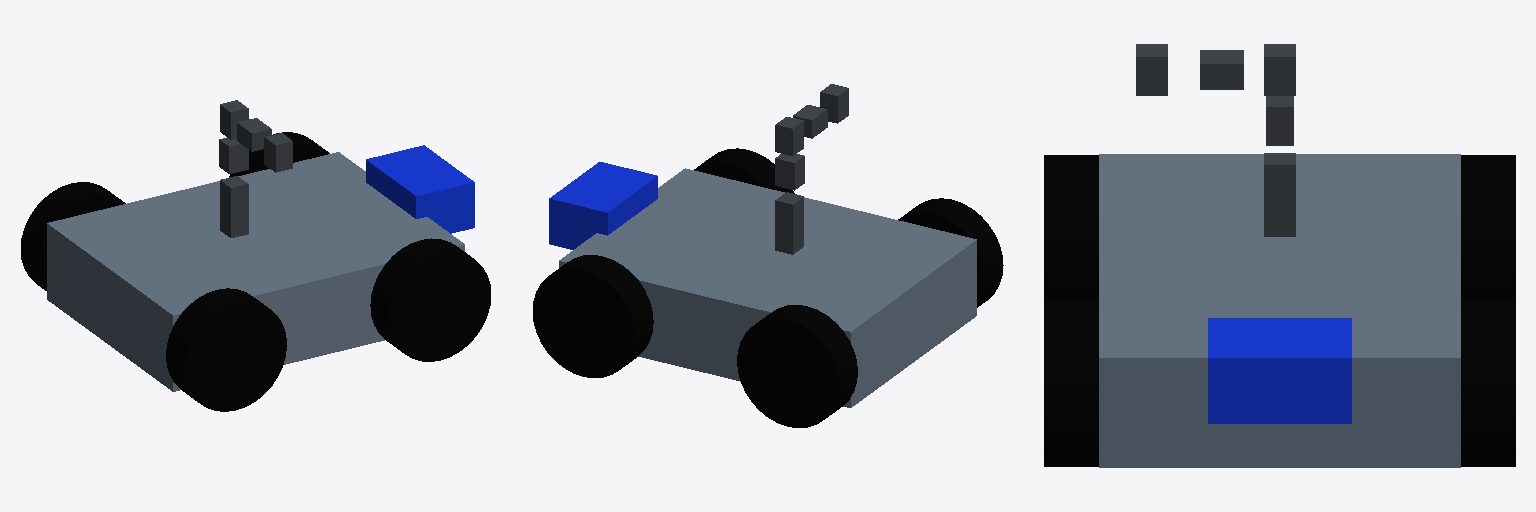
The robot description file, URDF, robot "mobile_manipulator":
<?xml version="1.0" ?>
<!-- =================================================================================== -->
<!-- |    This document was autogenerated by xacro from src/mobile_manipulator/urdf/mobile_manipulator.urdf.xacro | -->
<!-- |    EDITING THIS FILE BY HAND IS NOT RECOMMENDED                                 | -->
<!-- =================================================================================== -->
<robot name="mobile_manipulator">
  <material name="SlateGray">
    <color rgba="0.44 0.50 0.56 1"/>
  </material>
  <material name="Black">
    <color rgba="0.04 0.04 0.04 1"/>
  </material>
  <material name="PoppyOrange">
    <color rgba="1.0 0.32 0.05 1"/>
  </material>
  <material name="ServoGray">
    <color rgba="0.28 0.30 0.32 1"/>
  </material>
  <material name="Blue">
    <color rgba="0.1 0.25 0.9 1"/>
  </material>
  <link name="base_link">
    <inertial>
      <mass value="6.0"/>
      <inertia ixx="0.05" ixy="0" ixz="0" iyy="0.085" iyz="0" izz="0.125"/>
    </inertial>
    <visual>
      <origin xyz="0 0 0"/>
      <geometry>
        <box size="0.4 0.3 0.1"/>
      </geometry>
      <material name="SlateGray"/>
    </visual>
    <collision>
      <origin xyz="0 0 0"/>
      <geometry>
        <box size="0.4 0.3 0.1"/>
      </geometry>
    </collision>
  </link>
  <link name="base_footprint"/>
  <joint name="base_fixed" type="fixed">
    <parent link="base_footprint"/>
    <child link="base_link"/>
    <origin xyz="0 0 0.07"/>
  </joint>
  <link name="front_left_link">
    <inertial>
      <mass value="0.45"/>
      <inertia ixx="0.000627" ixy="0" ixz="0" iyy="0.001103" iyz="0" izz="0.000627"/>
    </inertial>
    <visual>
      <origin rpy="1.5707963267949 0 0"/>
      <geometry>
        <cylinder length="0.045" radius="0.07"/>
      </geometry>
      <material name="Black"/>
    </visual>
    <collision>
      <origin rpy="1.5707963267949 0 0"/>
      <geometry>
        <cylinder length="0.045" radius="0.07"/>
      </geometry>
    </collision>
  </link>
  <joint name="front_left_joint" type="continuous">
    <parent link="base_link"/>
    <child link="front_left_link"/>
    <origin xyz="0.14 0.1725 0"/>
    <axis xyz="0 1 0"/>
    <limit effort="20" velocity="12.0"/>
  </joint>
  <link name="rear_left_link">
    <inertial>
      <mass value="0.45"/>
      <inertia ixx="0.000627" ixy="0" ixz="0" iyy="0.001103" iyz="0" izz="0.000627"/>
    </inertial>
    <visual>
      <origin rpy="1.5707963267949 0 0"/>
      <geometry>
        <cylinder length="0.045" radius="0.07"/>
      </geometry>
      <material name="Black"/>
    </visual>
    <collision>
      <origin rpy="1.5707963267949 0 0"/>
      <geometry>
        <cylinder length="0.045" radius="0.07"/>
      </geometry>
    </collision>
  </link>
  <joint name="rear_left_joint" type="continuous">
    <parent link="base_link"/>
    <child link="rear_left_link"/>
    <origin xyz="-0.14 0.1725 0"/>
    <axis xyz="0 1 0"/>
    <limit effort="20" velocity="12.0"/>
  </joint>
  <link name="front_right_link">
    <inertial>
      <mass value="0.45"/>
      <inertia ixx="0.000627" ixy="0" ixz="0" iyy="0.001103" iyz="0" izz="0.000627"/>
    </inertial>
    <visual>
      <origin rpy="1.5707963267949 0 0"/>
      <geometry>
        <cylinder length="0.045" radius="0.07"/>
      </geometry>
      <material name="Black"/>
    </visual>
    <collision>
      <origin rpy="1.5707963267949 0 0"/>
      <geometry>
        <cylinder length="0.045" radius="0.07"/>
      </geometry>
    </collision>
  </link>
  <joint name="front_right_joint" type="continuous">
    <parent link="base_link"/>
    <child link="front_right_link"/>
    <origin xyz="0.14 -0.1725 0"/>
    <axis xyz="0 1 0"/>
    <limit effort="20" velocity="12.0"/>
  </joint>
  <link name="rear_right_link">
    <inertial>
      <mass value="0.45"/>
      <inertia ixx="0.000627" ixy="0" ixz="0" iyy="0.001103" iyz="0" izz="0.000627"/>
    </inertial>
    <visual>
      <origin rpy="1.5707963267949 0 0"/>
      <geometry>
        <cylinder length="0.045" radius="0.07"/>
      </geometry>
      <material name="Black"/>
    </visual>
    <collision>
      <origin rpy="1.5707963267949 0 0"/>
      <geometry>
        <cylinder length="0.045" radius="0.07"/>
      </geometry>
    </collision>
  </link>
  <joint name="rear_right_joint" type="continuous">
    <parent link="base_link"/>
    <child link="rear_right_link"/>
    <origin xyz="-0.14 -0.1725 0"/>
    <axis xyz="0 1 0"/>
    <limit effort="20" velocity="12.0"/>
  </joint>
  <!-- The printed Poppy base and motor m1 body remain fixed to the vehicle. -->
  <link name="poppy_mount_link">
    <inertial>
      <origin xyz="0 0 0.019"/>
      <mass value="0.0450"/>
      <inertia ixx="1.4e-5" ixy="0" ixz="0" iyy="1.3e-5" iyz="0" izz="1.7e-5"/>
    </inertial>
    <visual>
      <geometry>
        <mesh filename="file:///home/dryanguasr/proyectos/gazebo-tutorial/gazebo-codex-mobile-manipulator/install/mobile_manipulator/share/mobile_manipulator/meshes/poppy_ergo_jr/visual/poppy_mount.stl"/>
      </geometry>
      <material name="PoppyOrange"/>
    </visual>
    <visual>
      <origin xyz="0 0 0.027"/>
      <geometry>
        <box size="0.024 0.027 0.036"/>
      </geometry>
      <material name="ServoGray"/>
    </visual>
    <collision>
      <geometry>
        <mesh filename="file:///home/dryanguasr/proyectos/gazebo-tutorial/gazebo-codex-mobile-manipulator/install/mobile_manipulator/share/mobile_manipulator/meshes/poppy_ergo_jr/collision/poppy_mount_convex.stl"/>
      </geometry>
    </collision>
  </link>
  <joint name="poppy_mount_joint" type="fixed">
    <parent link="base_link"/>
    <child link="poppy_mount_link"/>
    <origin xyz="-0.03 0 0.05"/>
  </joint>
  <link name="poppy_link_1">
    <inertial>
      <origin xyz="0 0 0.024"/>
      <mass value="0.0390"/>
      <inertia ixx="8.6e-6" ixy="0" ixz="0" iyy="9.8e-6" iyz="0" izz="7.0e-6"/>
    </inertial>
    <visual>
      <geometry>
        <mesh filename="file:///home/dryanguasr/proyectos/gazebo-tutorial/gazebo-codex-mobile-manipulator/install/mobile_manipulator/share/mobile_manipulator/meshes/poppy_ergo_jr/visual/poppy_link_1.stl"/>
      </geometry>
      <material name="PoppyOrange"/>
    </visual>
    <visual>
      <origin xyz="0 0 0.024"/>
      <geometry>
        <box size="0.024 0.027 0.036"/>
      </geometry>
      <material name="ServoGray"/>
    </visual>
    <collision>
      <origin xyz="0 0 0.027"/>
      <geometry>
        <box size="0.042 0.034 0.054"/>
      </geometry>
    </collision>
  </link>
  <joint name="poppy_m1_joint" type="revolute">
    <parent link="poppy_mount_link"/>
    <child link="poppy_link_1"/>
    <origin rpy="0 0 0" xyz="0 0 0.0327993216120967"/>
    <axis xyz="0 0 1"/>
    <limit effort="0.39" lower="-2.61799" upper="2.61799" velocity="2.0"/>
  </joint>
  <link name="poppy_link_2">
    <inertial>
      <origin xyz="0.042 0 0"/>
      <mass value="0.0383"/>
      <inertia ixx="5.0e-6" ixy="0" ixz="0" iyy="9.0e-6" iyz="0" izz="8.0e-6"/>
    </inertial>
    <visual>
      <geometry>
        <mesh filename="file:///home/dryanguasr/proyectos/gazebo-tutorial/gazebo-codex-mobile-manipulator/install/mobile_manipulator/share/mobile_manipulator/meshes/poppy_ergo_jr/visual/poppy_link_2.stl"/>
      </geometry>
      <material name="PoppyOrange"/>
    </visual>
    <visual>
      <origin rpy="0 1.5707963267949 0" xyz="0.054 0 0"/>
      <geometry>
        <box size="0.027 0.024 0.036"/>
      </geometry>
      <material name="ServoGray"/>
    </visual>
    <collision>
      <origin xyz="0.0415 0 0"/>
      <geometry>
        <box size="0.050 0.030 0.040"/>
      </geometry>
    </collision>
  </link>
  <joint name="poppy_m2_joint" type="revolute">
    <parent link="poppy_link_1"/>
    <child link="poppy_link_2"/>
    <origin rpy="0 -1.5707963267949 0" xyz="0 0 0.0240006783879033"/>
    <axis xyz="0 0 -1"/>
    <limit effort="0.39" lower="-1.5708" upper="1.5708" velocity="2.0"/>
  </joint>
  <link name="poppy_link_3">
    <inertial>
      <origin xyz="0.047 0 0"/>
      <mass value="0.0353"/>
      <inertia ixx="4.2e-6" ixy="0" ixz="0" iyy="5.0e-6" iyz="0" izz="4.5e-6"/>
    </inertial>
    <visual>
      <geometry>
        <mesh filename="file:///home/dryanguasr/proyectos/gazebo-tutorial/gazebo-codex-mobile-manipulator/install/mobile_manipulator/share/mobile_manipulator/meshes/poppy_ergo_jr/visual/poppy_link_3.stl"/>
      </geometry>
      <material name="PoppyOrange"/>
    </visual>
    <visual>
      <origin rpy="0 1.5707963267949 0" xyz="0.045 0 0"/>
      <geometry>
        <box size="0.024 0.027 0.036"/>
      </geometry>
      <material name="ServoGray"/>
    </visual>
    <collision>
      <origin xyz="0.045 0 0"/>
      <geometry>
        <box size="0.040 0.032 0.036"/>
      </geometry>
    </collision>
  </link>
  <joint name="poppy_m3_joint" type="revolute">
    <parent link="poppy_link_2"/>
    <child link="poppy_link_3"/>
    <origin rpy="0 0 0" xyz="0.054 0 0"/>
    <axis xyz="0 0 -1"/>
    <limit effort="0.39" lower="-1.5708" upper="1.5708" velocity="2.0"/>
  </joint>
  <link name="poppy_link_4">
    <inertial>
      <origin xyz="0 -0.042 0"/>
      <mass value="0.0383"/>
      <inertia ixx="9.0e-6" ixy="0" ixz="0" iyy="5.0e-6" iyz="0" izz="8.0e-6"/>
    </inertial>
    <visual>
      <geometry>
        <mesh filename="file:///home/dryanguasr/proyectos/gazebo-tutorial/gazebo-codex-mobile-manipulator/install/mobile_manipulator/share/mobile_manipulator/meshes/poppy_ergo_jr/visual/poppy_link_4.stl"/>
      </geometry>
      <material name="PoppyOrange"/>
    </visual>
    <visual>
      <origin rpy="1.5707963267949 0 0" xyz="0 -0.048 0"/>
      <geometry>
        <box size="0.027 0.024 0.036"/>
      </geometry>
      <material name="ServoGray"/>
    </visual>
    <collision>
      <origin xyz="0 -0.0415 0"/>
      <geometry>
        <box size="0.040 0.050 0.030"/>
      </geometry>
    </collision>
  </link>
  <joint name="poppy_m4_joint" type="revolute">
    <parent link="poppy_link_3"/>
    <child link="poppy_link_4"/>
    <origin rpy="0 -1.5707963267949 0" xyz="0.045 0 0"/>
    <axis xyz="0 0 -1"/>
    <limit effort="0.39" lower="-1.5708" upper="1.5708" velocity="2.0"/>
  </joint>
  <link name="poppy_link_5">
    <inertial>
      <origin xyz="0 -0.070 0.005"/>
      <mass value="0.0411"/>
      <inertia ixx="4.7e-5" ixy="0" ixz="0" iyy="8.0e-6" iyz="0" izz="4.8e-5"/>
    </inertial>
    <visual>
      <geometry>
        <mesh filename="file:///home/dryanguasr/proyectos/gazebo-tutorial/gazebo-codex-mobile-manipulator/install/mobile_manipulator/share/mobile_manipulator/meshes/poppy_ergo_jr/visual/poppy_link_5.stl"/>
      </geometry>
      <material name="PoppyOrange"/>
    </visual>
    <visual>
      <origin rpy="0 -1.5707963267949 0" xyz="0 -0.058 0"/>
      <geometry>
        <box size="0.024 0.027 0.036"/>
      </geometry>
      <material name="ServoGray"/>
    </visual>
    <collision>
      <origin xyz="0 -0.058 0"/>
      <geometry>
        <box size="0.036 0.032 0.030"/>
      </geometry>
    </collision>
    <collision>
      <origin xyz="0 -0.082 0.0145"/>
      <geometry>
        <box size="0.024 0.092 0.006"/>
      </geometry>
    </collision>
  </link>
  <joint name="poppy_m5_joint" type="revolute">
    <parent link="poppy_link_4"/>
    <child link="poppy_link_5"/>
    <origin rpy="0 -1.5707963267949 0" xyz="0 -0.048 0"/>
    <axis xyz="0 0 1"/>
    <limit effort="0.39" lower="-1.5708" upper="1.5708" velocity="2.0"/>
  </joint>
  <link name="poppy_link_6">
    <inertial>
      <origin xyz="-0.0035 -0.030 0"/>
      <mass value="0.00614"/>
      <inertia ixx="3.87e-6" ixy="0" ixz="0" iyy="9.72e-7" iyz="0" izz="3.65e-6"/>
    </inertial>
    <visual>
      <geometry>
        <mesh filename="file:///home/dryanguasr/proyectos/gazebo-tutorial/gazebo-codex-mobile-manipulator/install/mobile_manipulator/share/mobile_manipulator/meshes/poppy_ergo_jr/visual/poppy_link_6.stl"/>
      </geometry>
      <material name="PoppyOrange"/>
    </visual>
    <collision>
      <geometry>
        <mesh filename="file:///home/dryanguasr/proyectos/gazebo-tutorial/gazebo-codex-mobile-manipulator/install/mobile_manipulator/share/mobile_manipulator/meshes/poppy_ergo_jr/collision/poppy_link_6_convex.stl"/>
      </geometry>
    </collision>
  </link>
  <joint name="poppy_m6_joint" type="revolute">
    <parent link="poppy_link_5"/>
    <child link="poppy_link_6"/>
    <origin rpy="0 -1.5707963267949 0" xyz="0 -0.058 0"/>
    <axis xyz="0 0 -1"/>
    <limit effort="0.39" lower="0.0" upper="1.20" velocity="2.0"/>
  </joint>
  <link name="poppy_fixed_tip"/>
  <joint name="poppy_fixed_tip_joint" type="fixed">
    <parent link="poppy_link_5"/>
    <child link="poppy_fixed_tip"/>
    <origin rpy="-1.5707963267949 0 0" xyz="0 -0.11 0"/>
  </joint>
  <link name="poppy_moving_tip"/>
  <joint name="poppy_moving_tip_joint" type="fixed">
    <parent link="poppy_link_6"/>
    <child link="poppy_moving_tip"/>
    <origin rpy="-1.5707963267949 0 0" xyz="0 -0.052 0"/>
  </joint>
  <!-- The tracking camera stays on the vehicle front to preserve the A/B task. -->
  <link name="camera_link">
    <visual>
      <geometry>
        <box size="0.08 0.12 0.06"/>
      </geometry>
      <material name="Blue"/>
    </visual>
  </link>
  <joint name="camera_fixed" type="fixed">
    <parent link="base_link"/>
    <child link="camera_link"/>
    <origin rpy="0 0 0" xyz="0.225 0 0.05"/>
  </joint>
  <ros2_control name="GazeboSimSystem" type="system">
    <hardware>
      <plugin>gz_ros2_control/GazeboSimSystem</plugin>
    </hardware>
    <joint name="front_left_joint">
      <command_interface name="velocity"/>
      <state_interface name="position"/>
      <state_interface name="velocity"/>
    </joint>
    <joint name="rear_left_joint">
      <command_interface name="velocity"/>
      <state_interface name="position"/>
      <state_interface name="velocity"/>
    </joint>
    <joint name="front_right_joint">
      <command_interface name="velocity"/>
      <state_interface name="position"/>
      <state_interface name="velocity"/>
    </joint>
    <joint name="rear_right_joint">
      <command_interface name="velocity"/>
      <state_interface name="position"/>
      <state_interface name="velocity"/>
    </joint>
    <joint name="poppy_m1_joint">
      <command_interface name="position"/>
      <state_interface name="position"/>
    </joint>
    <joint name="poppy_m2_joint">
      <command_interface name="position"/>
      <state_interface name="position"/>
    </joint>
    <joint name="poppy_m3_joint">
      <command_interface name="position"/>
      <state_interface name="position"/>
    </joint>
    <joint name="poppy_m4_joint">
      <command_interface name="position"/>
      <state_interface name="position"/>
    </joint>
    <joint name="poppy_m5_joint">
      <command_interface name="position"/>
      <state_interface name="position"/>
    </joint>
    <joint name="poppy_m6_joint">
      <command_interface name="position"/>
      <state_interface name="position"/>
    </joint>
  </ros2_control>
  <gazebo reference="camera_link">
    <sensor name="front_camera" type="camera">
      <topic>/camera/image_raw</topic>
      <update_rate>30</update_rate>
      <camera>
        <horizontal_fov>1.047</horizontal_fov>
        <image>
          <width>640</width>
          <height>480</height>
          <format>R8G8B8</format>
        </image>
        <clip>
          <near>0.05</near>
          <far>20</far>
        </clip>
      </camera>
    </sensor>
  </gazebo>
  <gazebo>
    <plugin filename="gz_ros2_control-system" name="gz_ros2_control::GazeboSimROS2ControlPlugin">
      <parameters>/home/dryanguasr/proyectos/gazebo-tutorial/gazebo-codex-mobile-manipulator/install/mobile_manipulator/share/mobile_manipulator/config/controllers.yaml</parameters>
    </plugin>
  </gazebo>
</robot>

--- What the picture shows (computed from the rendered views, not written in the file) ---
The picture shows the robot from 3 angles, left to right: view 1: azimuth 30°, elevation 25°; view 2: azimuth 150°, elevation 25°; view 3: azimuth 270°, elevation 25°; orthographic projection.
Robot: mobile_manipulator — 16 links, 15 joints (6 revolute, 4 continuous, 5 fixed); root link base_footprint; default pose: all joints at 0.
Links seen in each view (by area): view 1: base_link, rear_right_link, front_right_link, camera_link, rear_left_link, front_left_link, poppy_link_5, poppy_link_2, poppy_link_1, poppy_link_4, poppy_link_3, poppy_mount_link; view 2: base_link, rear_left_link, front_left_link, camera_link, rear_right_link, front_right_link, poppy_link_3, poppy_link_2, poppy_link_5, poppy_link_1, poppy_mount_link, poppy_link_4; view 3: base_link, camera_link, front_left_link, front_right_link, rear_left_link, rear_right_link, poppy_link_4, poppy_link_3, poppy_link_5, poppy_link_1, poppy_link_2, poppy_mount_link.
Link boxes in pixels (<box>): base_link: <box>47,152,464,391</box>; rear_right_link: <box>166,288,286,411</box>; front_right_link: <box>370,238,490,361</box>; camera_link: <box>366,145,474,233</box>; rear_left_link: <box>21,182,125,290</box>; front_left_link: <box>229,132,329,177</box>; poppy_link_5: <box>264,133,292,172</box>; poppy_link_2: <box>219,138,248,173</box>; poppy_link_1: <box>220,176,248,213</box>; poppy_link_4: <box>237,118,271,151</box>; poppy_link_3: <box>220,100,248,139</box>; poppy_mount_link: <box>220,203,248,237</box>; base_link: <box>559,168,976,407</box>; rear_left_link: <box>737,305,857,427</box>; front_left_link: <box>533,255,653,377</box>; camera_link: <box>549,162,657,249</box>; rear_right_link: <box>898,198,1003,307</box>; front_right_link: <box>694,148,794,193</box>; poppy_link_3: <box>775,117,803,155</box>; poppy_link_2: <box>775,154,804,190</box>; poppy_link_5: <box>820,84,848,123</box>; poppy_link_1: <box>775,192,803,227</box>; poppy_mount_link: <box>775,220,803,254</box>; poppy_link_4: <box>793,105,827,138</box>; base_link: <box>1099,154,1460,467</box>; camera_link: <box>1208,318,1351,423</box>; front_left_link: <box>1461,298,1515,466</box>; front_right_link: <box>1044,298,1098,466</box>; rear_left_link: <box>1461,155,1515,297</box>; rear_right_link: <box>1044,155,1098,297</box>; poppy_link_4: <box>1200,50,1243,89</box>; poppy_link_3: <box>1264,44,1295,95</box>; poppy_link_5: <box>1136,44,1167,95</box>; poppy_link_1: <box>1264,153,1295,197</box>; poppy_link_2: <box>1266,96,1293,145</box>; poppy_mount_link: <box>1264,198,1295,236</box>.
Size in the robot's own frame: 0.475 by 0.39 by 0.2938 metres.
Geometry: only primitive shapes (box / cylinder / sphere) drawn; not drawn: 7 mesh visuals (reference in a form the renderer does not follow).
